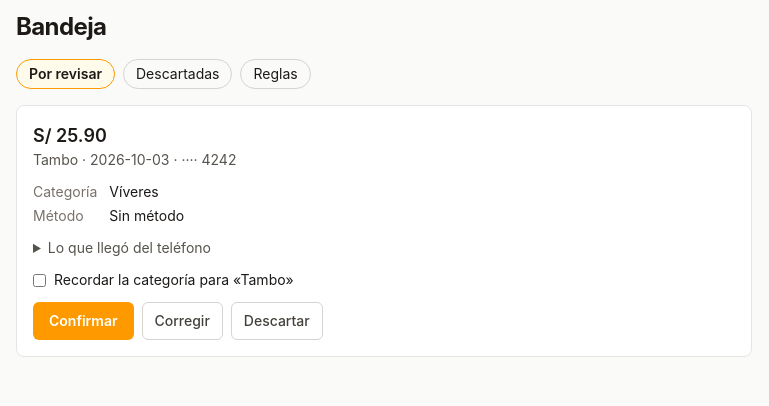
Test: InboxScreen › says why a confirmation was refused
The image size is (769, 406).
Click the button "Confirmar". click: x=83, y=321
box: left=33, top=302, right=134, bottom=340
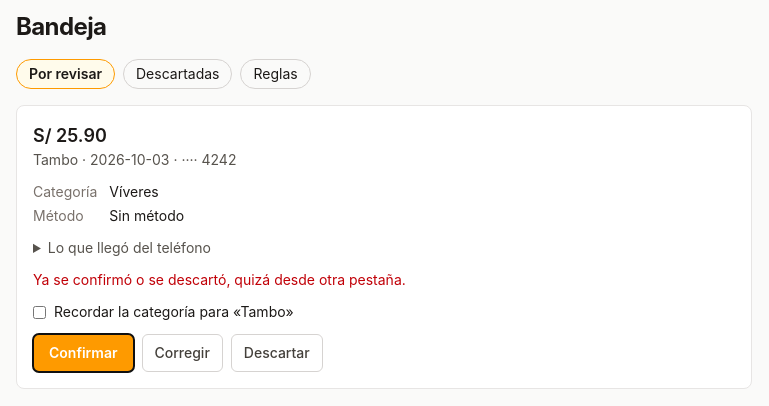
Now the message reads "Ya se confirmó o se descartó, quizá desde otra pestaña.", box left=33, top=271, right=406, bottom=288
